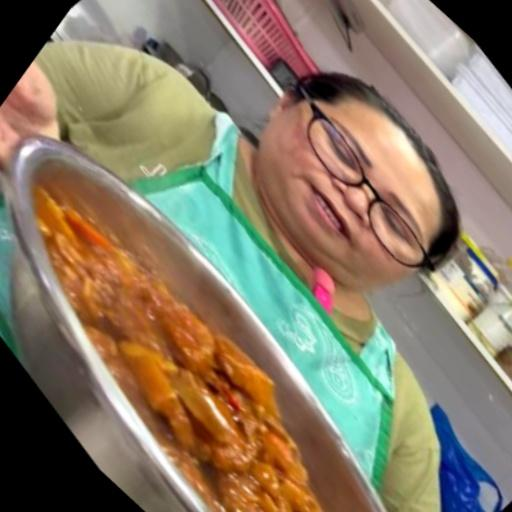pork caldereta: (30, 201, 320, 511)
